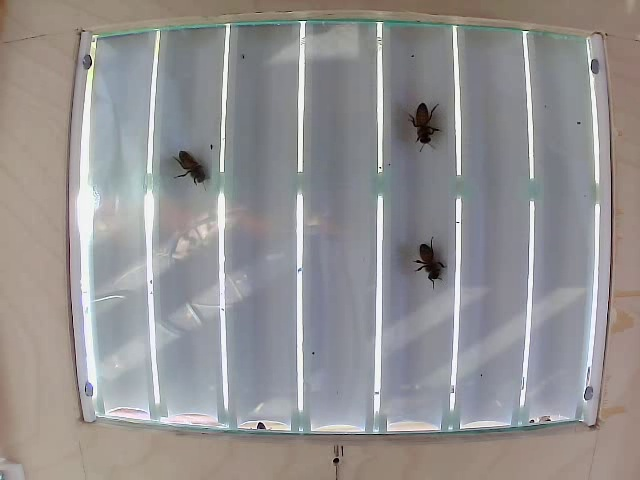bee: (397, 92, 445, 160), (177, 149, 219, 202), (410, 242, 447, 293)
